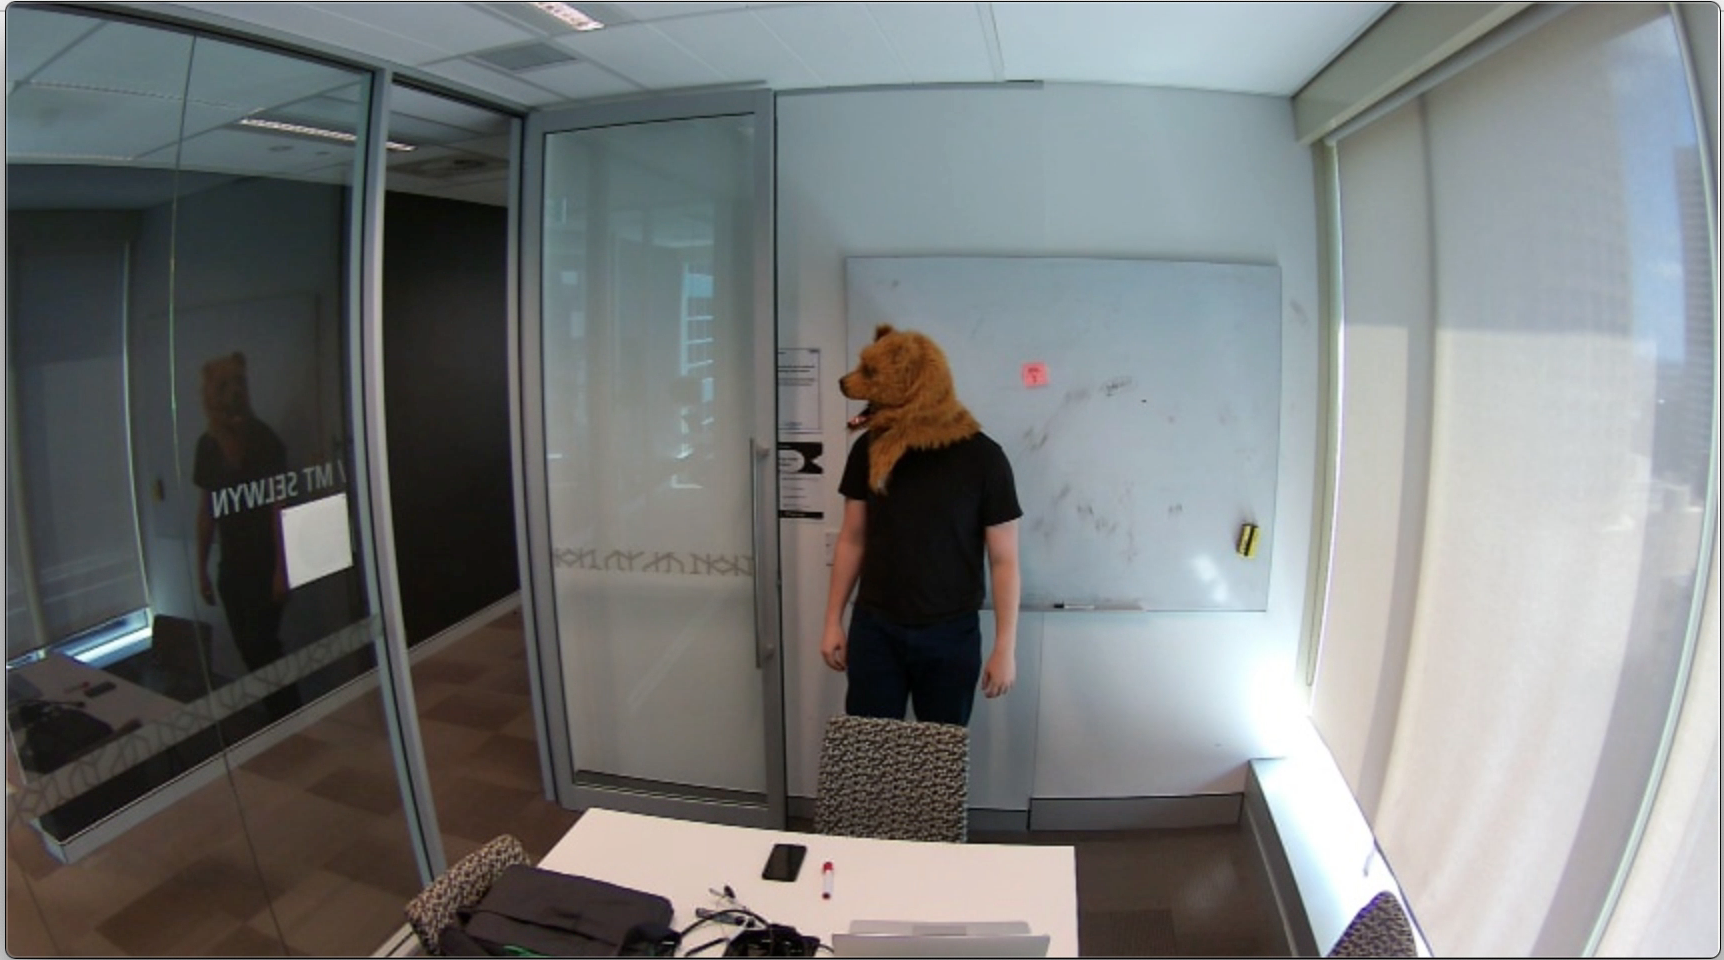Bear: (835, 318, 976, 437)
